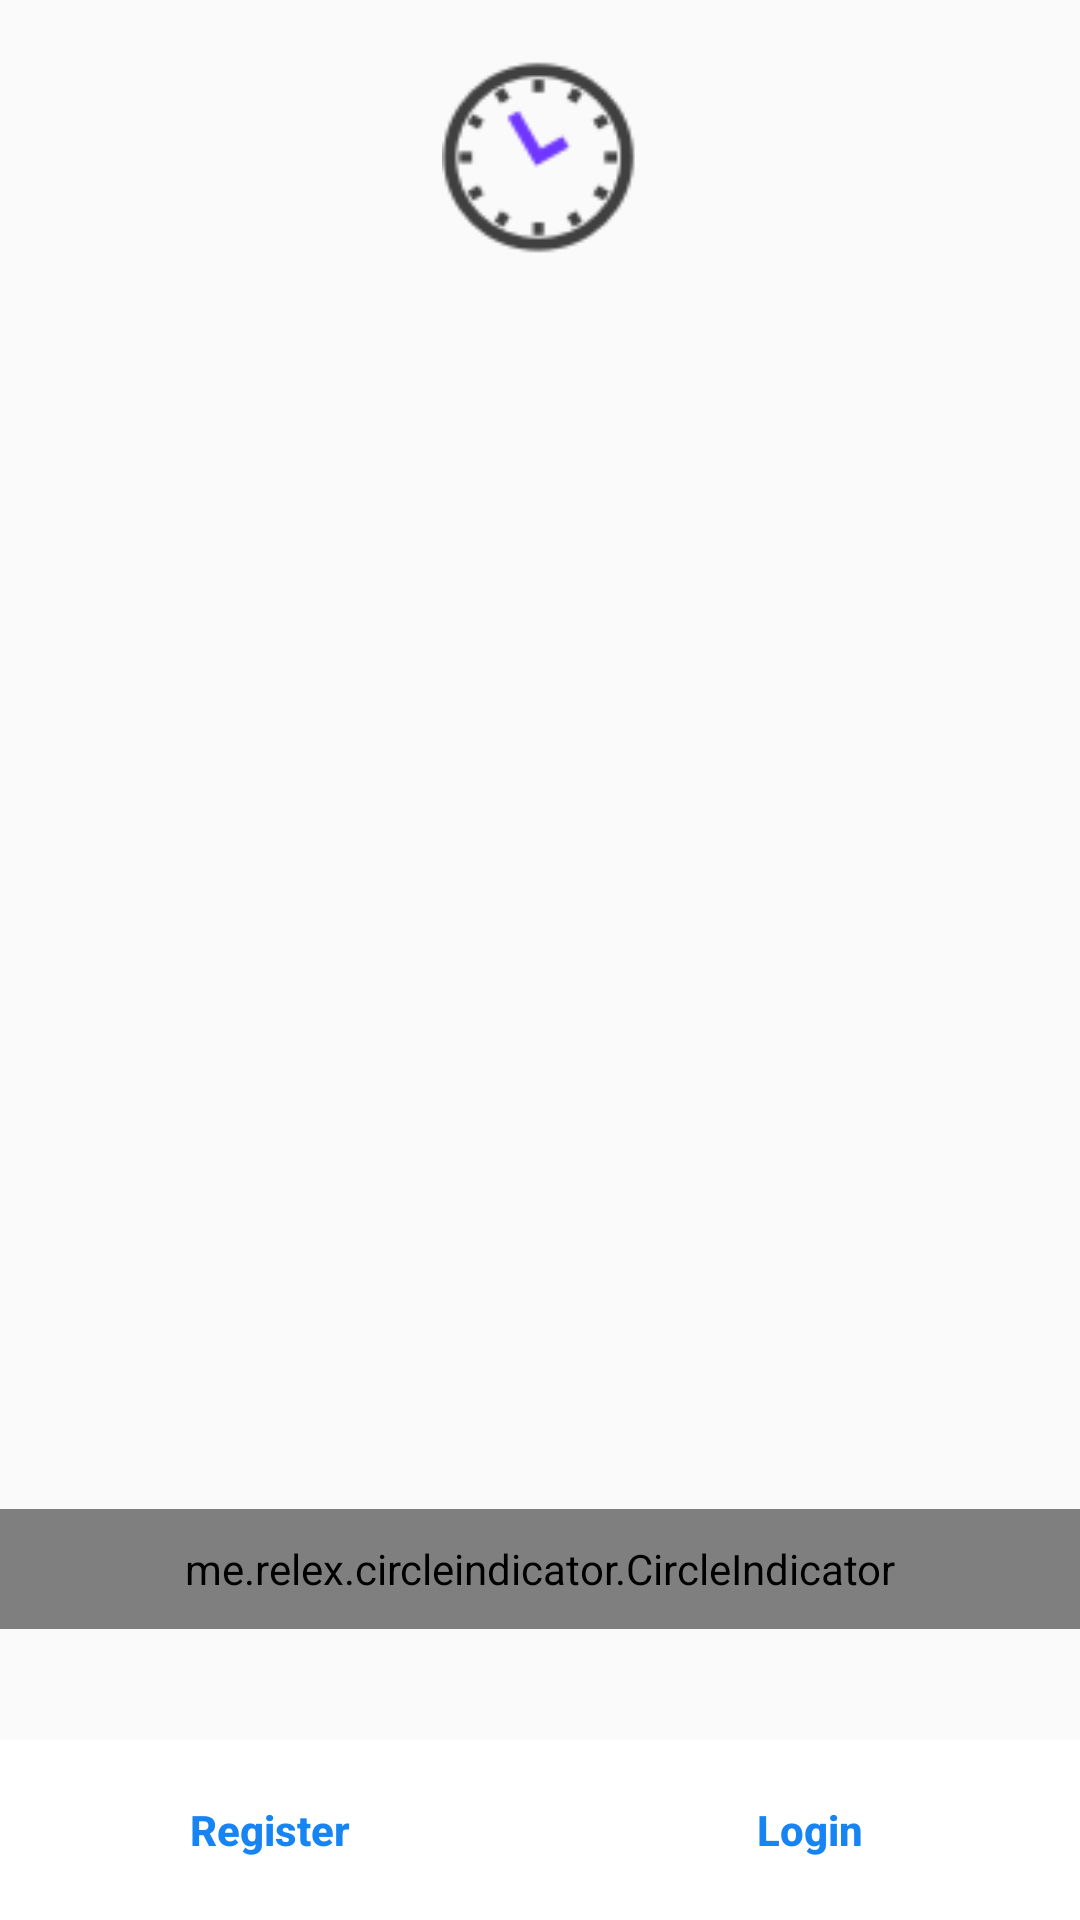

Screen size 1080px x 1920px. Icon name, then its center in pixels as (x,y):
clock: (538,157)
